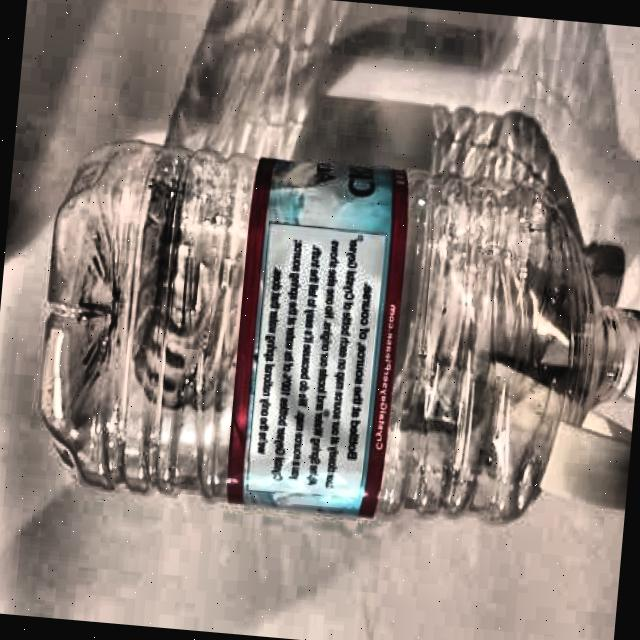plastic: (29, 150, 640, 548)
